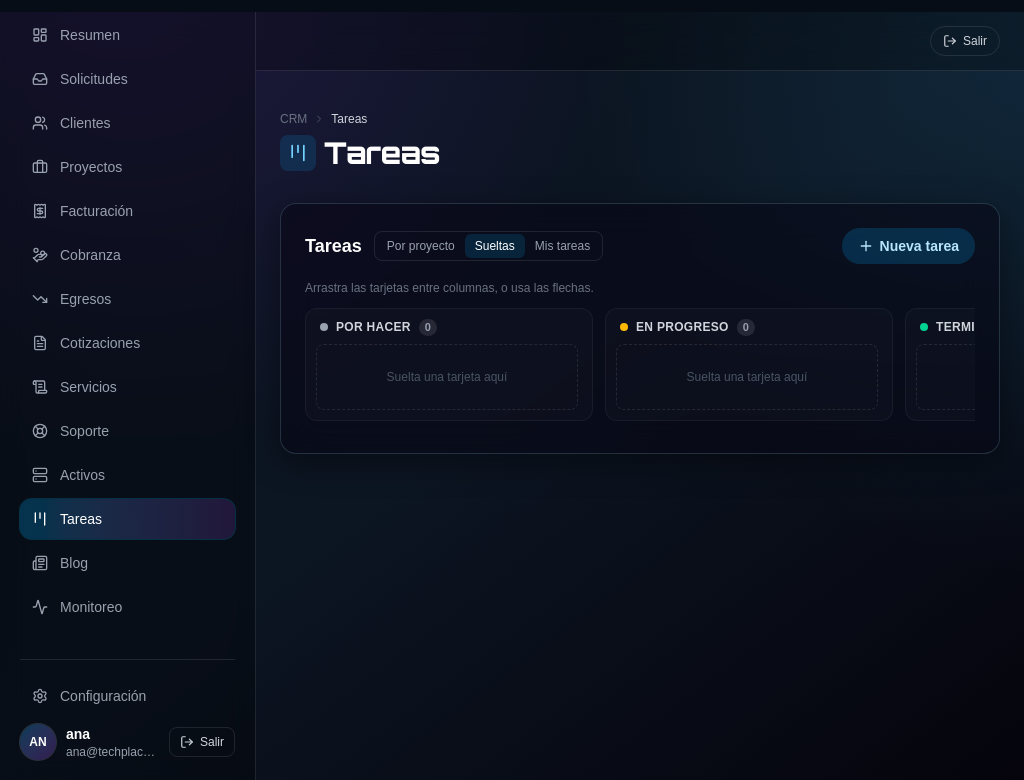
Test: CrmDashboard › switches to Usuarios (inside Configuración) when clicked (admin)
(page scrolled)
What coordinates should you click on to do the following:
click the button "Configuración"
I would click on:
 (128, 696)
Its box is [20,676,235,716].
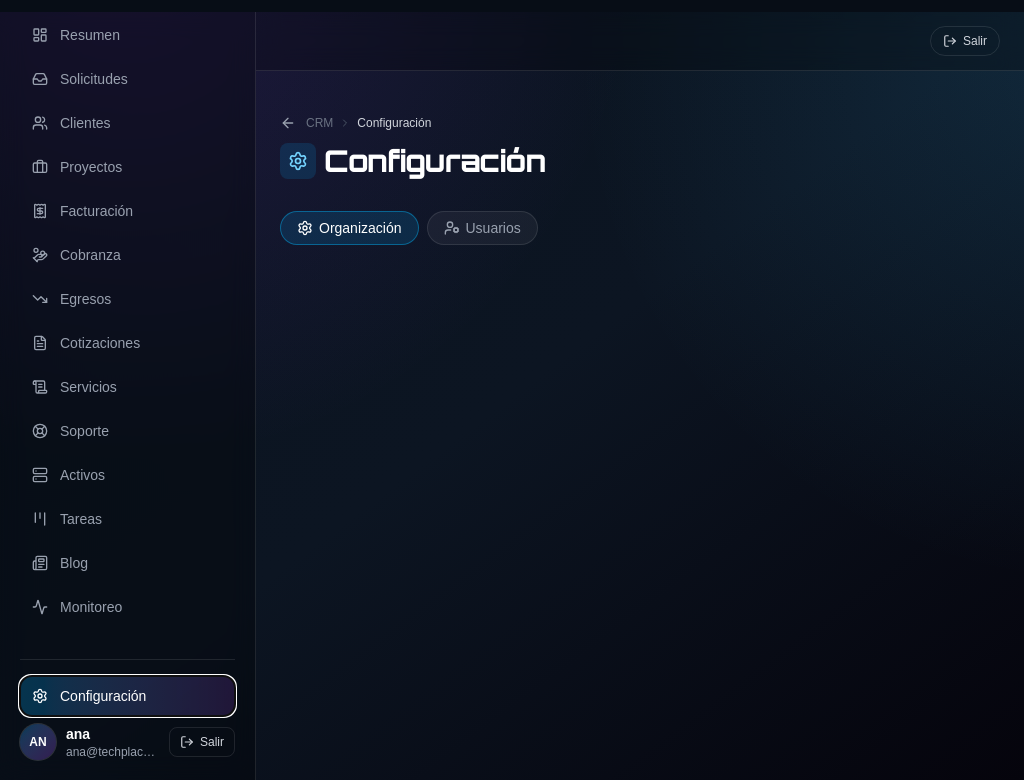
What coordinates should you click on to do the following:
click the button "Usuarios"
I would click on:
 (482, 228)
Its box is [426,211,538,245].
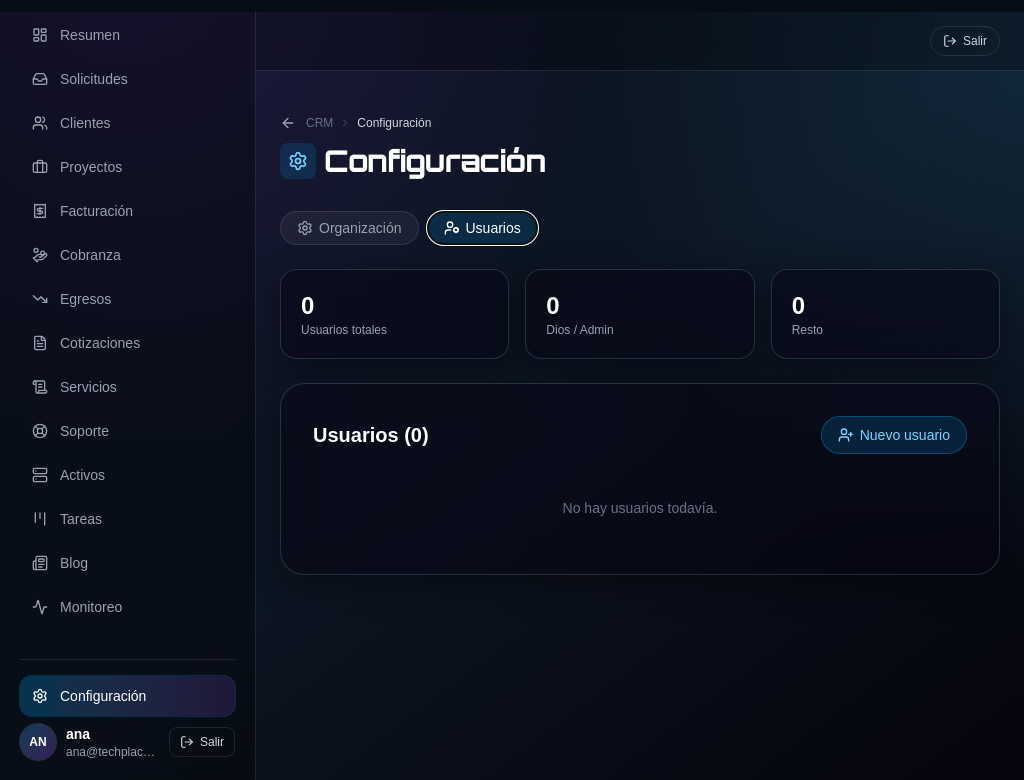
Expected: the text "Usuarios totales" is shown, [301,323,387,337]
